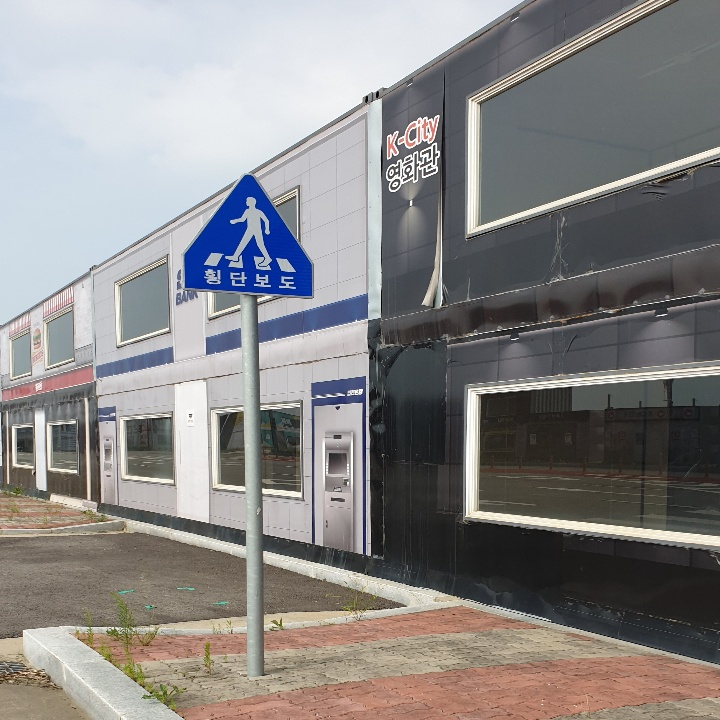cross: (221, 191, 280, 269)
